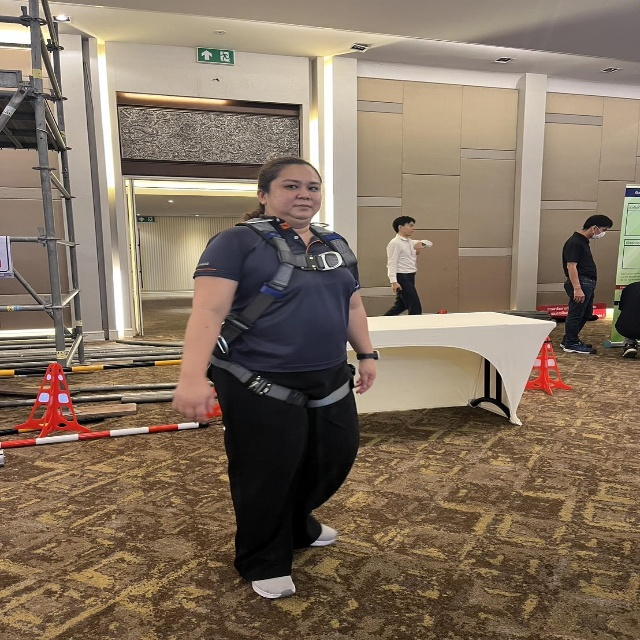Arnes_seguridad: (206, 210, 373, 415)
